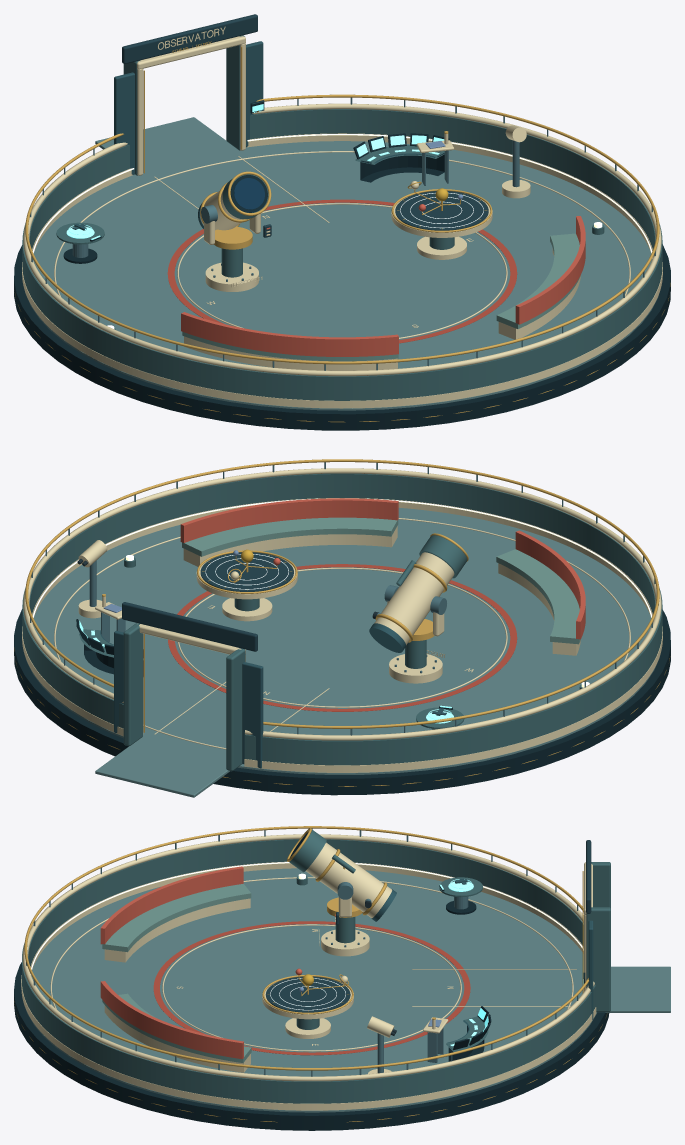
Rendered from starling-observatory.glb.
3 renders of one model, top to bottom at view 1: azimuth 30°, elevation 25°; view 2: azimuth 150°, elevation 25°; view 3: azimuth 270°, elevation 25°, orthographic. The views are drawn at different scales.
Visible parts, largest first — view 1: Deck / level observation floor, Perimeter / low teal parapet (×3), Deck / circular foundation, Perimeter / cream plinth (×3), Perimeter / warm ivory cap (×3), Bench / restrained coral backrest (×2), Perimeter / thin brass handrail (×3), Entry / retracted door (×2), Bench / teal upholstered seat (×2), Chart / dark chart surface, Entry / level connection to hub, Bench / curved ivory base (×2) (+15 smaller); view 2: Deck / level observation floor, Perimeter / low teal parapet (×3), Deck / circular foundation, Perimeter / warm ivory cap (×3), Perimeter / cream plinth (×3), Bench / teal upholstered seat (×2), Bench / restrained coral backrest (×2), Perimeter / thin brass handrail (×3), Entry / teal return wall (×2), Entry / level connection to hub, Telescope / ivory optical tube, Bench / curved ivory base (×2) (+16 smaller); view 3: Deck / level observation floor, Perimeter / low teal parapet (×3), Deck / circular foundation, Perimeter / cream plinth (×3), Perimeter / warm ivory cap (×3), Bench / restrained coral backrest (×2), Perimeter / thin brass handrail (×3), Bench / teal upholstered seat (×2), Entry / teal return wall (×2), Entry / level connection to hub, Bench / curved ivory base (×2), Deck / thin coral navigation ring (+14 smaller).
Part boxes in pixels (box(x1,y1,x2,y2)): Deck / level observation floor: box(25, 141, 658, 410); Perimeter / low teal parapet (×3): box(22, 109, 662, 400); Deck / circular foundation: box(14, 244, 670, 430); Perimeter / cream plinth (×3): box(22, 133, 662, 408); Perimeter / warm ivory cap (×3): box(23, 103, 661, 376); Bench / restrained coral backrest (×2): box(181, 216, 585, 356); Perimeter / thin brass handrail (×3): box(25, 94, 659, 364); Entry / retracted door (×2): box(114, 41, 263, 174); Bench / teal upholstered seat (×2): box(182, 233, 580, 361); Chart / dark chart surface: box(395, 191, 488, 230); Entry / level connection to hub: box(95, 117, 238, 167); Bench / curved ivory base (×2): box(184, 248, 580, 370); Deck / level observation floor: box(26, 507, 659, 774); Perimeter / low teal parapet (×3): box(22, 473, 662, 765); Deck / circular foundation: box(14, 609, 670, 795); Perimeter / warm ivory cap (×3): box(23, 468, 661, 740); Perimeter / cream plinth (×3): box(22, 498, 662, 772); Bench / teal upholstered seat (×2): box(182, 517, 580, 644); Bench / restrained coral backrest (×2): box(180, 498, 585, 639); Perimeter / thin brass handrail (×3): box(25, 459, 659, 728); Entry / teal return wall (×2): box(123, 623, 245, 771); Entry / level connection to hub: box(95, 737, 230, 797); Telescope / ivory optical tube: box(374, 552, 454, 645); Bench / curved ivory base (×2): box(183, 526, 580, 655); Deck / level observation floor: box(26, 868, 596, 1112); Perimeter / low teal parapet (×3): box(22, 839, 595, 1103); Deck / circular foundation: box(14, 962, 609, 1130); Perimeter / cream plinth (×3): box(21, 861, 596, 1110); Perimeter / warm ivory cap (×3): box(22, 834, 594, 1081); Bench / restrained coral backrest (×2): box(100, 866, 243, 1059); Perimeter / thin brass handrail (×3): box(24, 826, 588, 1070); Bench / teal upholstered seat (×2): box(102, 884, 251, 1062); Entry / teal return wall (×2): box(586, 862, 610, 1012); Entry / level connection to hub: box(605, 966, 670, 1012); Bench / curved ivory base (×2): box(104, 898, 250, 1072); Deck / thin coral navigation ring: box(153, 921, 470, 1055).
Bounding box in the file's own units: 15.2 × 3.81 × 16.75.
